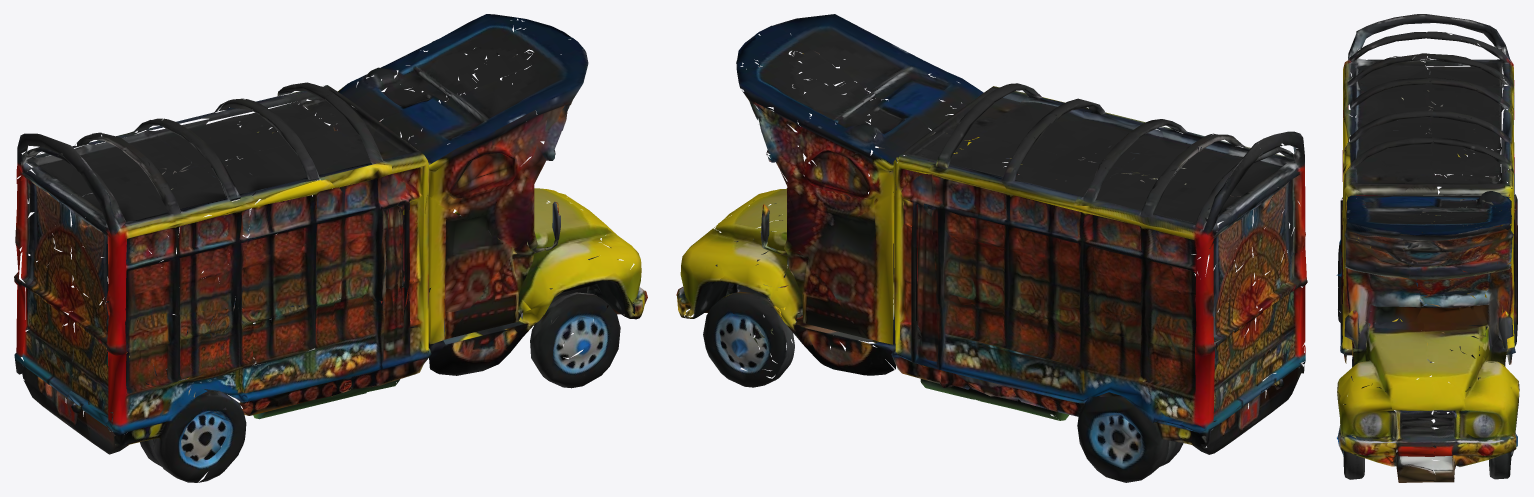
The model's file is pakistani-truck.glb.
The picture shows the model from 3 angles, left to right: view 1: azimuth 30°, elevation 25°; view 2: azimuth 150°, elevation 25°; view 3: azimuth 270°, elevation 25°; orthographic projection. The views are drawn at different scales.
Parts seen in each view (by area): view 1: tripo_node_390e8cf6-1993-4049-a650-7a7f8f047db2_0; view 2: tripo_node_390e8cf6-1993-4049-a650-7a7f8f047db2_0; view 3: tripo_node_390e8cf6-1993-4049-a650-7a7f8f047db2_0.
Part boxes in pixels (x1=…): tripo_node_390e8cf6-1993-4049-a650-7a7f8f047db2_0: x1=14, y1=14, x2=647, y2=482; tripo_node_390e8cf6-1993-4049-a650-7a7f8f047db2_0: x1=676, y1=14, x2=1307, y2=482; tripo_node_390e8cf6-1993-4049-a650-7a7f8f047db2_0: x1=1336, y1=14, x2=1519, y2=482.
Size of the model in its own units: 0.9991 by 0.5533 by 0.3389.
Materials: 1 (1 with a texture image).
